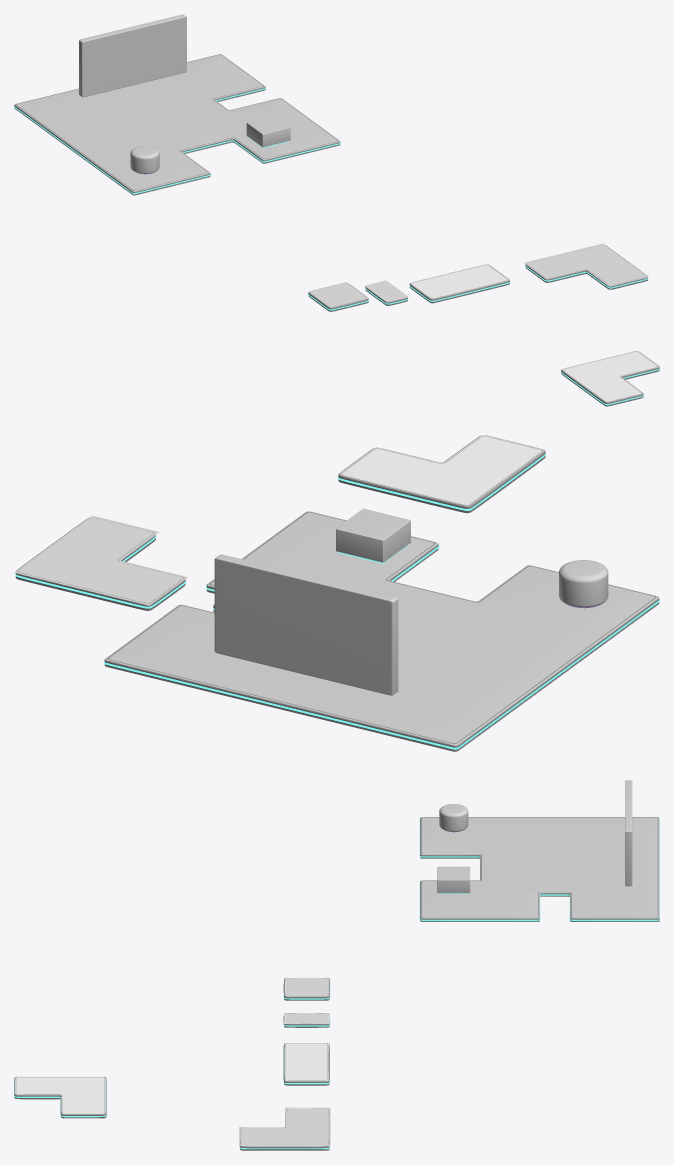
The model's file is future_scene.glb.
The picture shows the model from 3 angles, top to bottom: view 1: azimuth 30°, elevation 25°; view 2: azimuth 150°, elevation 25°; view 3: azimuth 270°, elevation 25°; orthographic projection. The views are drawn at different scales.
Parts seen in each view (by area): view 1: AsOne, 3_4Platform (×2), 3_4C, LongPlatformBig, P_C; view 2: AsOne, 3_4Platform (×2), 3_4C; view 3: AsOne, 3_4Platform (×2), 3_4C, LongPlatformBig, P_C.
Boxes of the visible parts, x1=… form: AsOne: x1=14, y1=14, x2=340, y2=195; 3_4Platform (×2): x1=525, y1=244, x2=659, y2=406; 3_4C: x1=524, y1=243, x2=648, y2=286; LongPlatformBig: x1=409, y1=264, x2=509, y2=303; P_C: x1=308, y1=282, x2=368, y2=307; AsOne: x1=104, y1=508, x2=659, y2=751; 3_4Platform (×2): x1=15, y1=435, x2=545, y2=610; 3_4C: x1=14, y1=515, x2=187, y2=605; AsOne: x1=419, y1=780, x2=659, y2=921; 3_4Platform (×2): x1=14, y1=1076, x2=329, y2=1150; 3_4C: x1=239, y1=1107, x2=330, y2=1146; LongPlatformBig: x1=283, y1=1043, x2=329, y2=1085; P_C: x1=285, y1=977, x2=329, y2=995.
Size of the model in its own units: 72.89 by 31.84 by 95.8.
